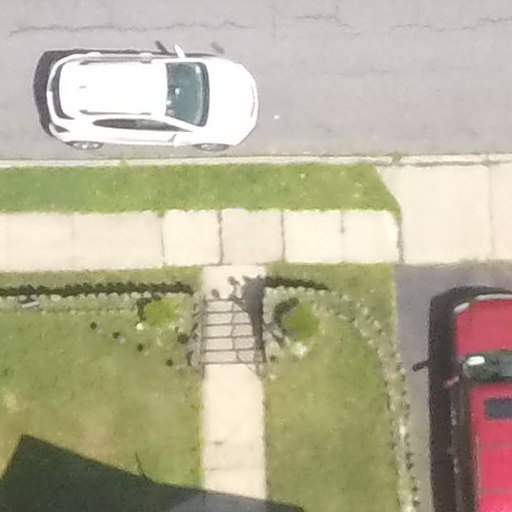car: (39, 37, 266, 164), (439, 279, 510, 512)
flower pot: (96, 325, 110, 337), (115, 333, 127, 345), (268, 357, 282, 366)
